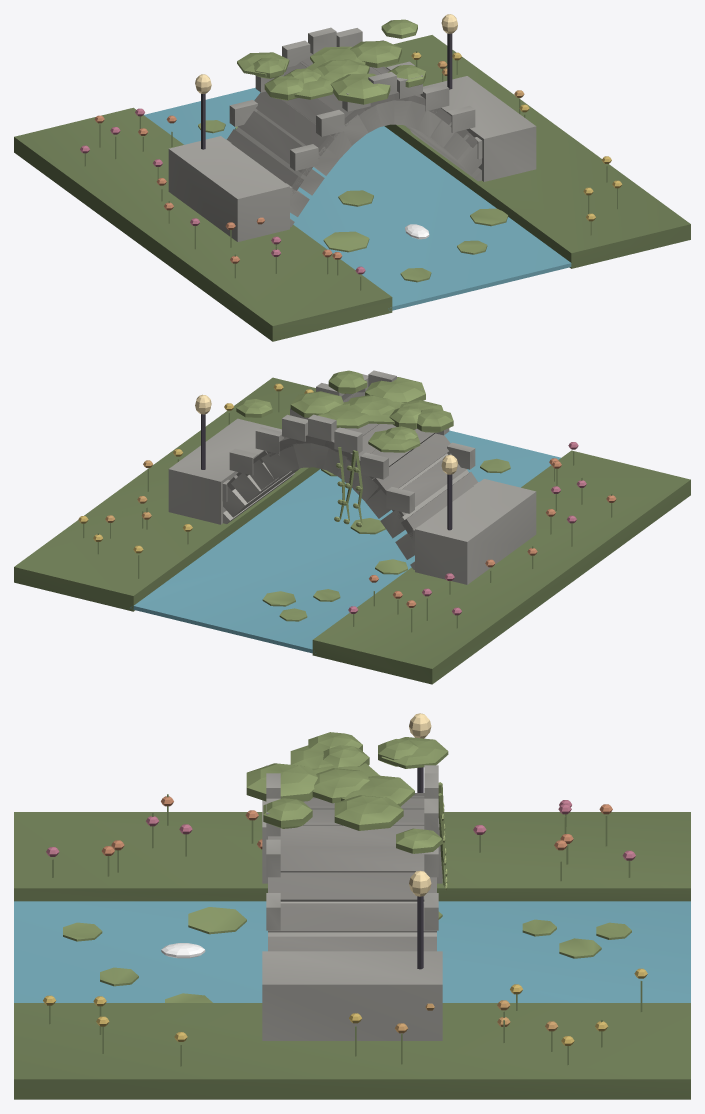
Rendered from MossyArchBridge.fbx.
The picture shows the model from 3 angles, top to bottom: view 1: azimuth 30°, elevation 25°; view 2: azimuth 150°, elevation 25°; view 3: azimuth 270°, elevation 25°; orthographic projection. The views are drawn at different scales.
Visible parts, largest first — view 1: Bld_MossyArchBridge; view 2: Bld_MossyArchBridge; view 3: Bld_MossyArchBridge.
Part boxes in pixels (bbox=[...]): Bld_MossyArchBridge: bbox=[14, 14, 690, 341]; Bld_MossyArchBridge: bbox=[14, 370, 690, 684]; Bld_MossyArchBridge: bbox=[14, 713, 690, 1099].
Size of the model in its own units: 11.2 by 3.63 by 12.
